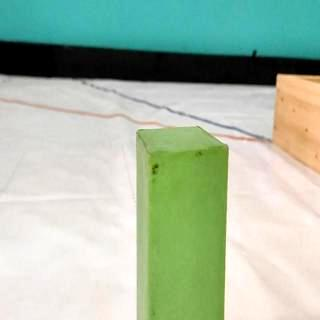greenbox: (135, 123, 231, 320)
